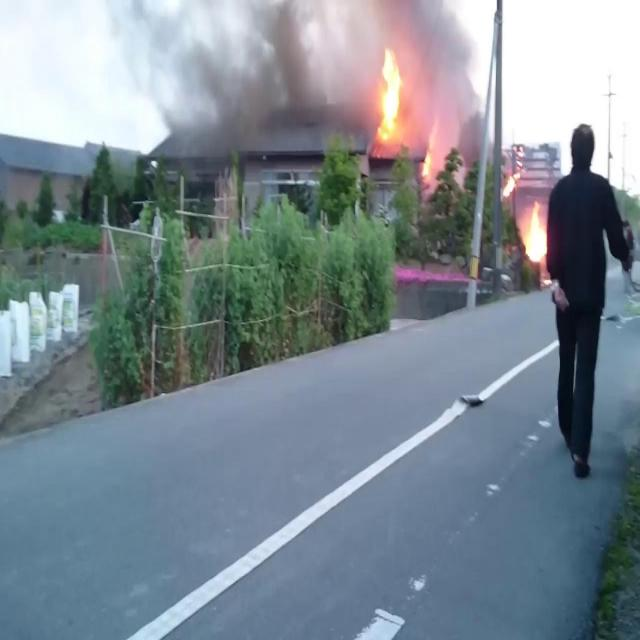Fire: (376, 44, 402, 142), (522, 199, 549, 262), (421, 128, 439, 176), (501, 169, 521, 198)
